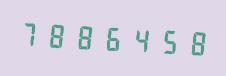eight: (71, 17, 97, 55), (44, 16, 70, 53), (179, 23, 205, 60)
five: (152, 22, 178, 59)
four: (125, 20, 151, 58)
seven: (17, 15, 43, 52)
six: (98, 19, 124, 56)
